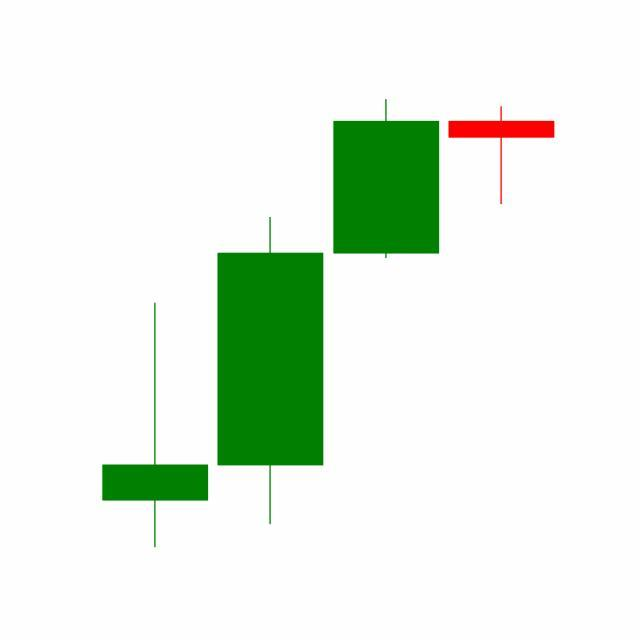Hanging Man: (444, 105, 560, 207)
